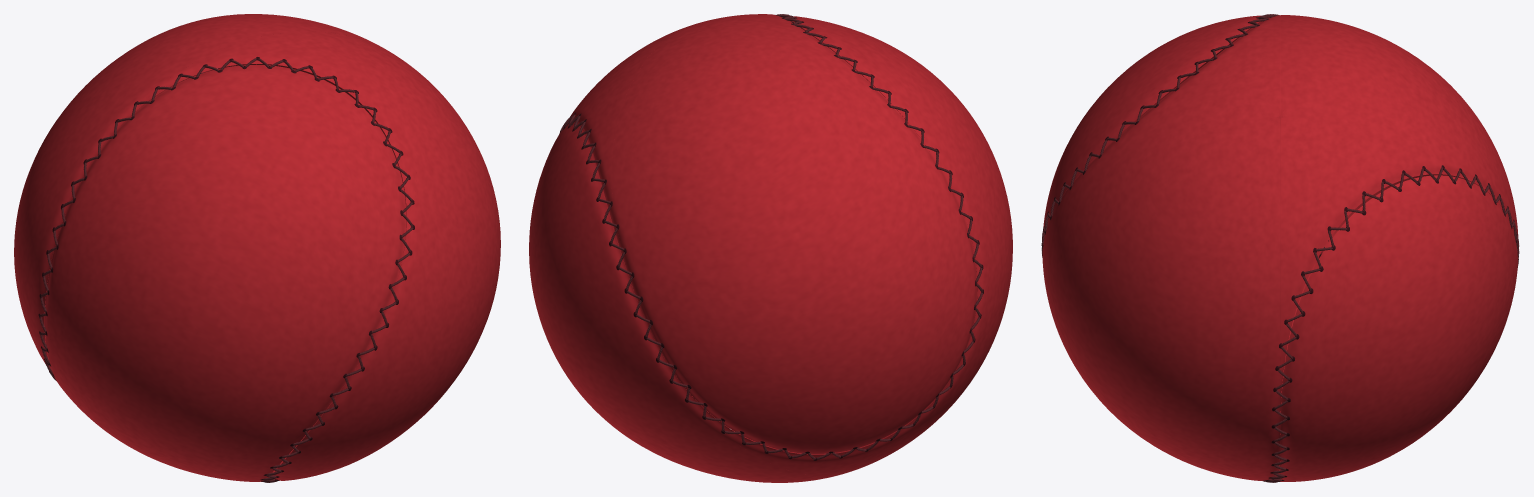
The model's file is jug-red-ball-web.glb.
The picture shows the model from 3 angles, left to right: view 1: azimuth 30°, elevation 25°; view 2: azimuth 150°, elevation 25°; view 3: azimuth 270°, elevation 25°; orthographic projection.
Parts seen in each view (by area): view 1: JUG red leather ball - 60mm; view 2: JUG red leather ball - 60mm; view 3: JUG red leather ball - 60mm.
Part boxes in pixels (bbox=[...]): JUG red leather ball - 60mm: bbox=[14, 14, 500, 482]; JUG red leather ball - 60mm: bbox=[529, 14, 1012, 482]; JUG red leather ball - 60mm: bbox=[1041, 14, 1519, 482].
Bounding box in the file's own units: 0.06 × 0.0571 × 0.0589.
4 materials, 1 textured.
